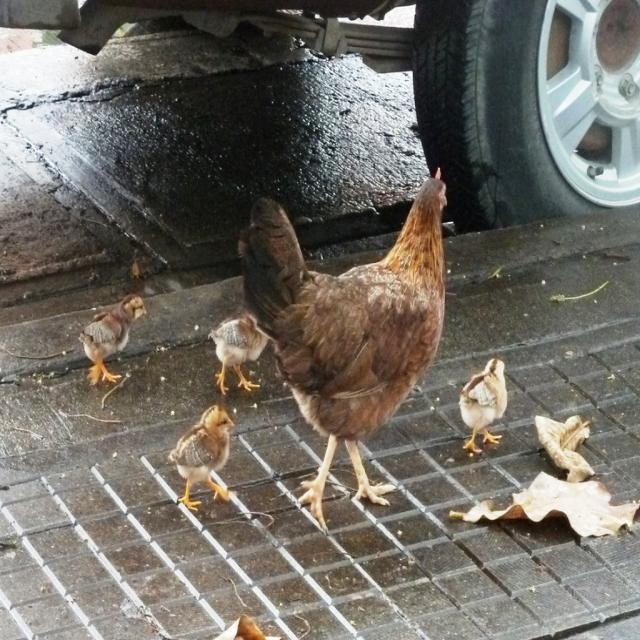Chicken: (245, 168, 451, 527)
